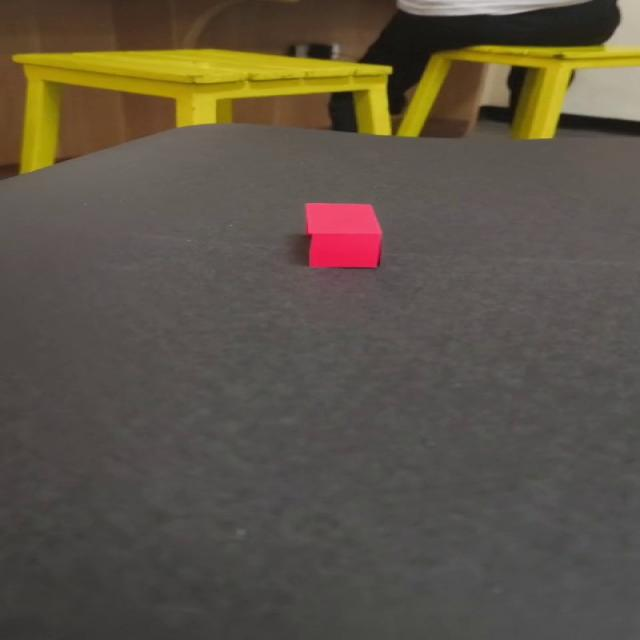red block: (302, 202, 382, 268)
